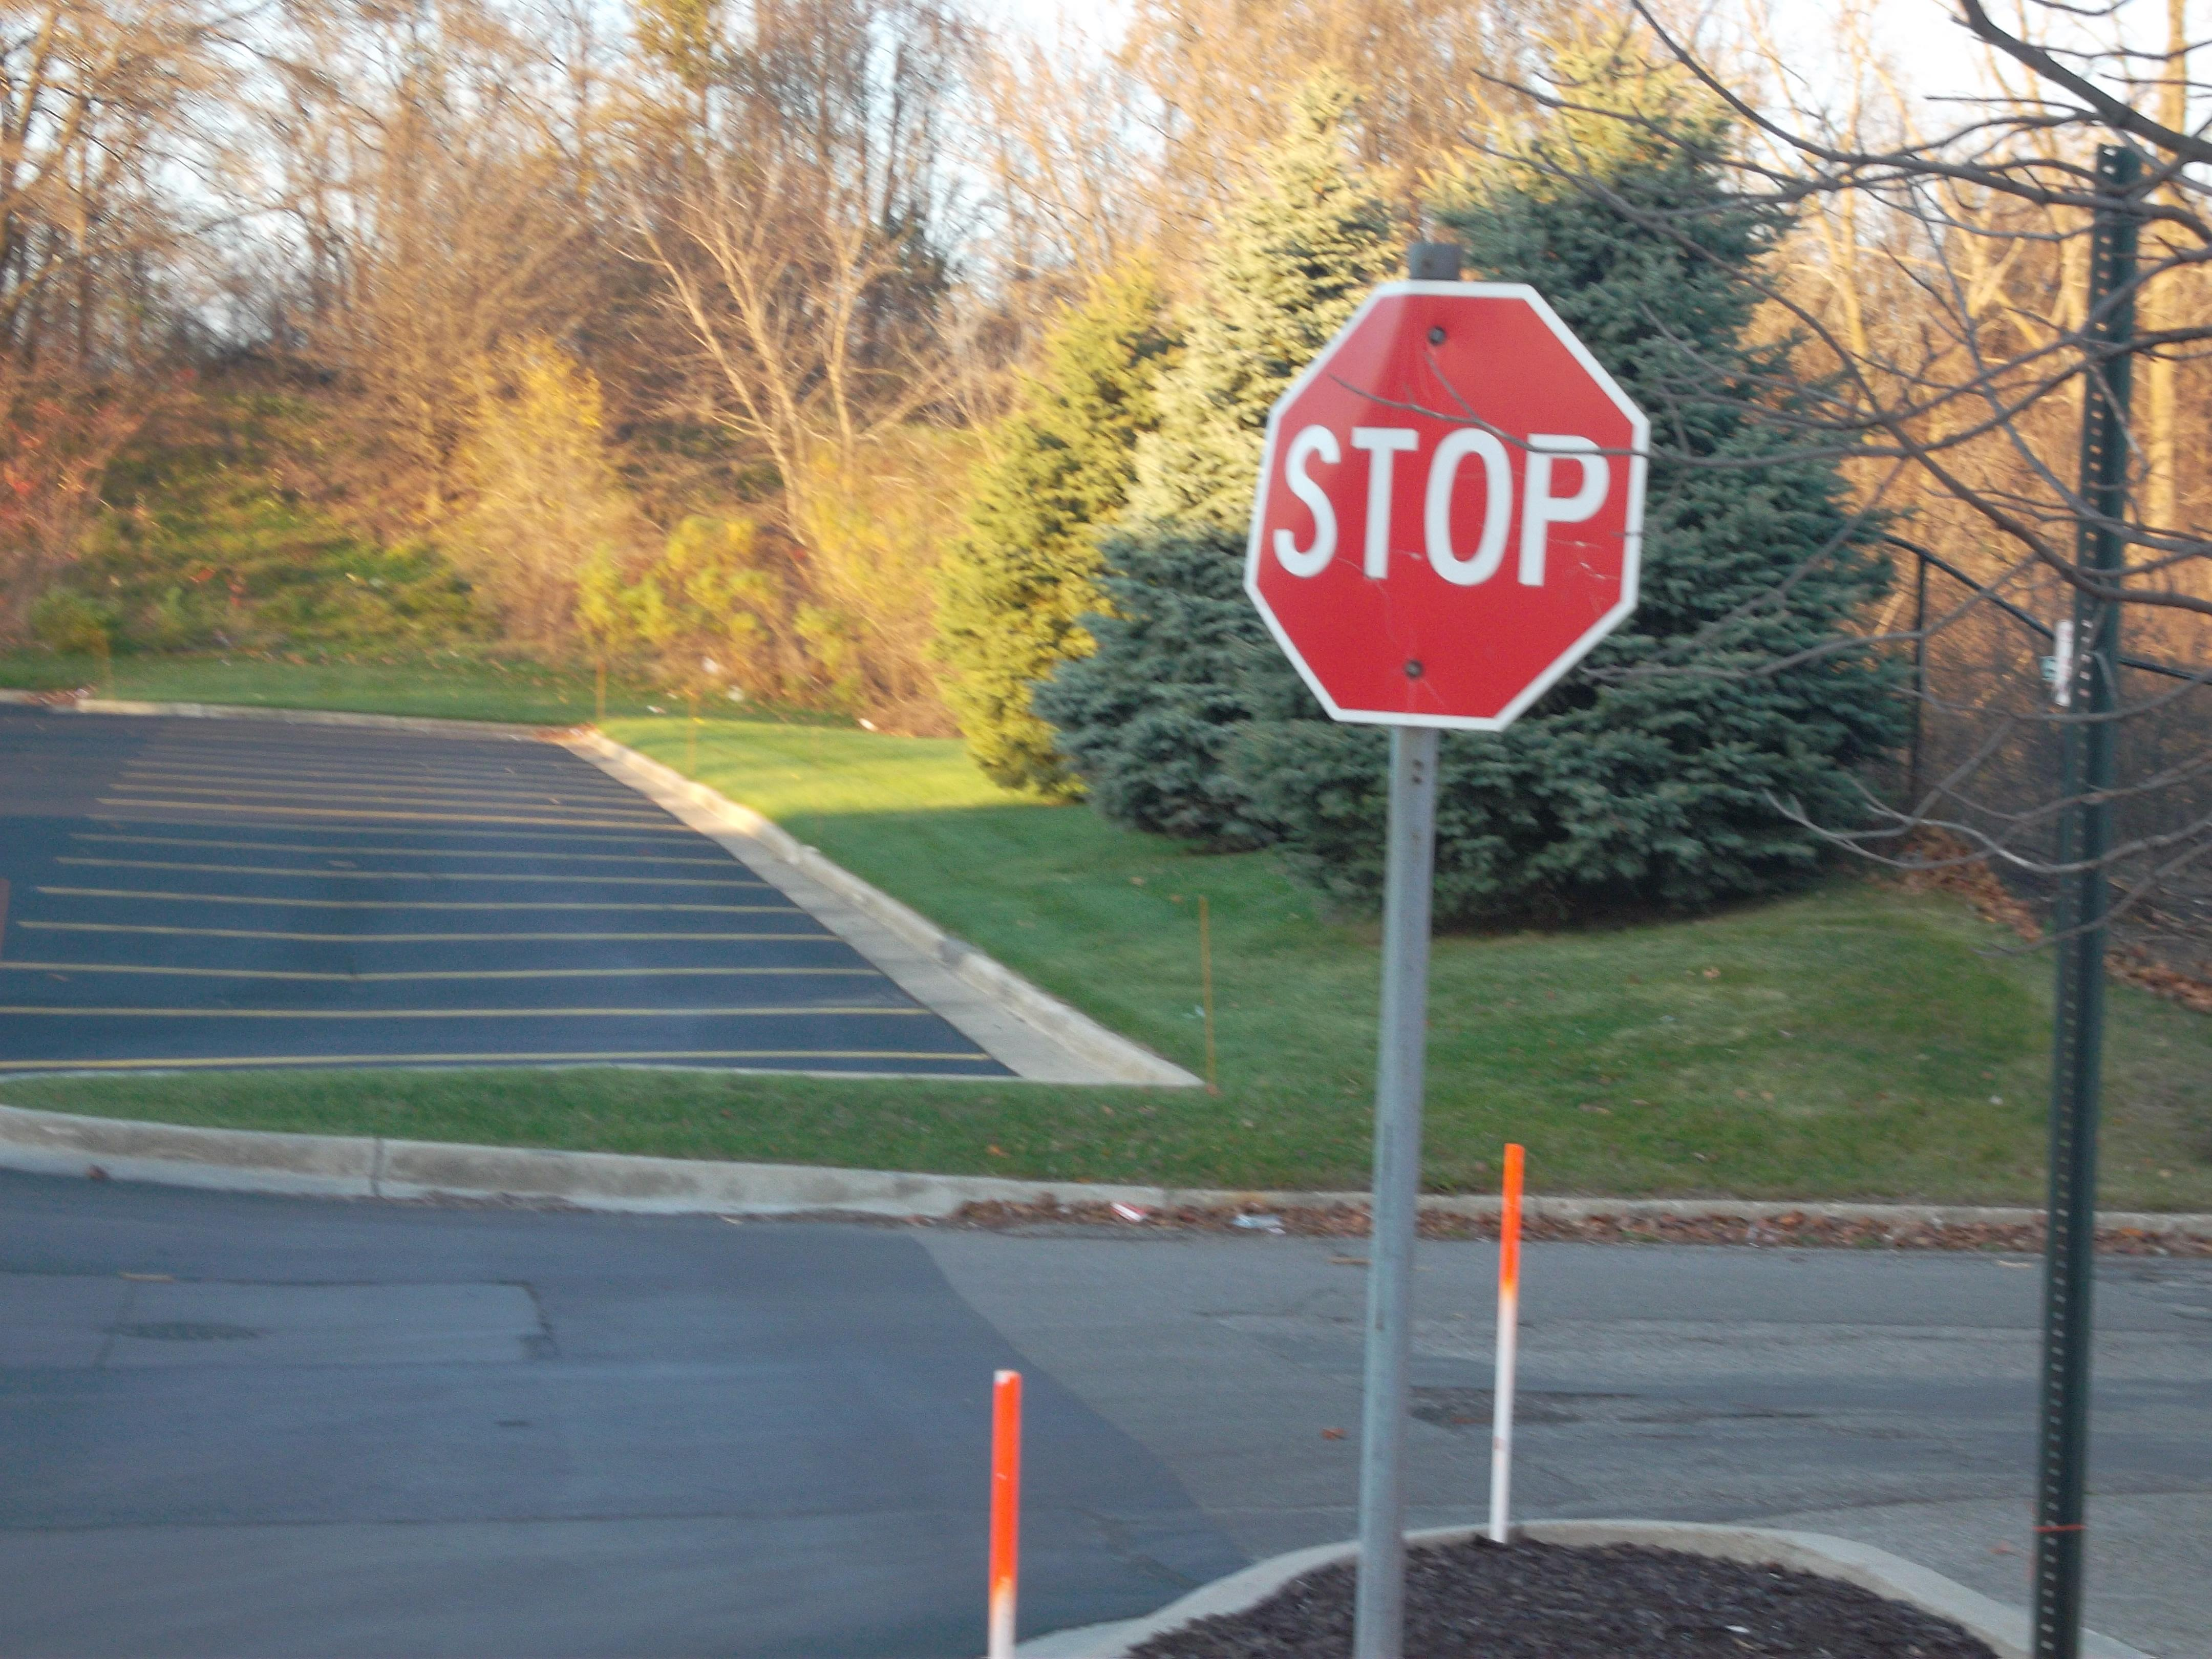stop: (1242, 268, 1649, 746)
